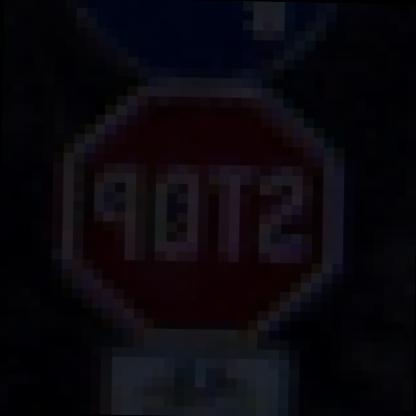stop: (36, 89, 345, 354)
